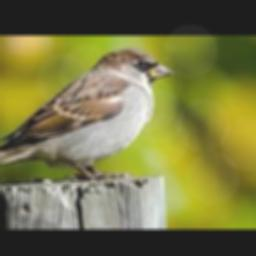Sparrow: (0, 48, 173, 184)
